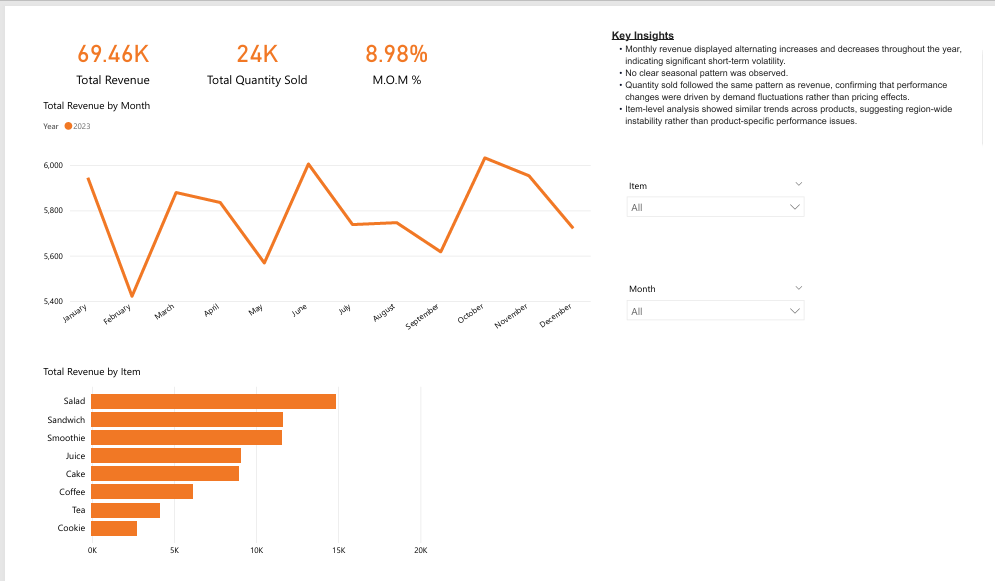

Layout of this report page (visuals, bound fields, positions):
{"tool":"powerbi","page":{"name":"Page 1","canvas":[1280,720],"ordinal":0},"visuals":[{"type":"card","fields":{"Values":["Sum(cafe sales.total_spent)"]},"box":[22,0,196.1,93.7],"z":0},{"type":"clusteredBarChart","title":"Total Revenue by Item","fields":{"Category":["cafe sales.Item"],"Y":["Sum(cafe sales.total_spent)"]},"box":[22,453.7,522.4,266.3],"z":1},{"type":"card","fields":{"Values":["Sum(cafe sales.Quantity)"]},"box":[225.4,0,174.1,93.7],"z":2},{"type":"lineChart","title":"Total Revenue by Month ","fields":{"Y":["Sum(cafe sales.total_spent)"],"Series":["cafe sales.transaction_date.Variation.Date Hierarchy.Year"],"Category":["cafe sales.transaction_date.Variation.Date Hierarchy.Month"]},"box":[22,99.5,740.5,320.5],"z":3},{"type":"card","fields":{"Values":["cafe sales.Sum of total_spent MoM%"]},"box":[409.8,0,177.1,93.7],"z":4},{"type":"slicer","fields":{"Values":["cafe sales.Item"]},"box":[794.6,202,257.6,80.5],"z":5},{"type":"slicer","fields":{"Values":["cafe sales.transaction_date.Variation.Date Hierarchy.Month"]},"box":[794.6,339.5,257.6,80.5],"z":6},{"type":"textbox","box":[780,11,500,175],"z":7}]}

Visuals, with their boxes on the page's 1280x720 design canvas (x1, y1, x2, y2). These are canvas units, not pixel positions in the 995x581 screenshot, which may show the page scaled, cropped or inside an application window:
card - Sum(cafe sales.total_spent): [22,0,218,94]
"Total Revenue by Item" clusteredBarChart: [22,454,544,720]
card - Sum(cafe sales.Quantity): [225,0,400,94]
"Total Revenue by Month " lineChart: [22,100,762,420]
card - cafe sales.Sum of total_spent MoM%: [410,0,587,94]
slicer - cafe sales.Item: [795,202,1052,282]
slicer - cafe sales.transaction_date.Variation.Date Hierarchy.Month: [795,340,1052,420]
textbox: [780,11,1280,186]
